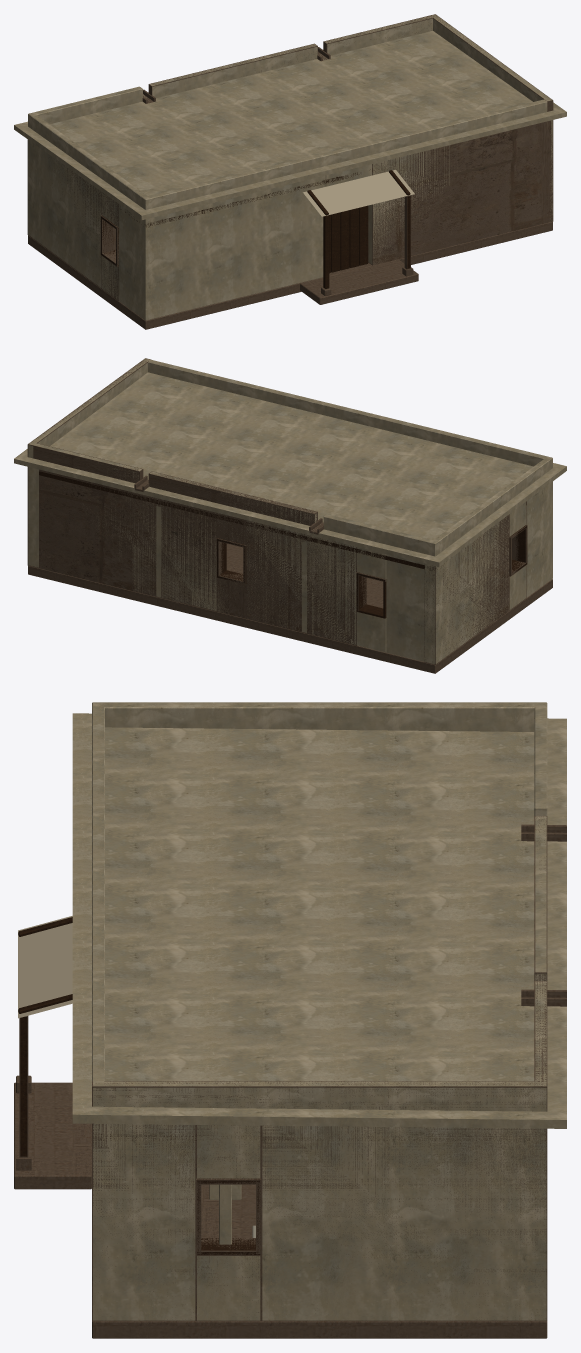
File: d_order_cells.glb
3 renders of one model, top to bottom at view 1: azimuth 30°, elevation 25°; view 2: azimuth 150°, elevation 25°; view 3: azimuth 270°, elevation 25°, orthographic. The views are drawn at different scales.
Parts seen in each view (by area): view 1: front wall, front wall-colonly.001, foundation, entry shade, window jamb, side wall-colonly.002, side wall-colonly.001, rear parapet-colonly.001, Door plank.001, Door plank.004, Door plank.002, Door plank.003 (+3 smaller); view 2: front wall, rear wall-colonly.002, rear wall-colonly.001, foundation, side wall-colonly.001, window jamb, rear parapet-colonly.001, rear parapet-colonly.002, window sill wall-colonly.001, window head wall-colonly.001, side parapet-colonly.001; view 3: front wall, foundation, side wall-colonly.003, entry shade, window jamb, side parapet-colonly.001, side wall-colonly.002, rear parapet-colonly.002, rear parapet-colonly.001.
Part boxes in pixels (bbox=[...]): front wall: bbox=[14, 14, 566, 320]; front wall-colonly.001: bbox=[368, 120, 553, 265]; foundation: bbox=[28, 47, 552, 329]; entry shade: bbox=[303, 169, 414, 216]; window jamb: bbox=[101, 157, 420, 288]; side wall-colonly.002: bbox=[541, 120, 553, 223]; side wall-colonly.001: bbox=[27, 139, 101, 288]; rear parapet-colonly.001: bbox=[148, 43, 317, 95]; Door plank.001: bbox=[331, 212, 340, 272]; Door plank.004: bbox=[359, 205, 368, 265]; Door plank.002: bbox=[340, 210, 349, 270]; Door plank.003: bbox=[349, 208, 358, 267]; front wall: bbox=[14, 358, 566, 664]; rear wall-colonly.002: bbox=[33, 469, 216, 611]; rear wall-colonly.001: bbox=[246, 520, 356, 645]; foundation: bbox=[28, 475, 552, 673]; side wall-colonly.001: bbox=[424, 514, 509, 664]; window jamb: bbox=[39, 471, 527, 618]; rear parapet-colonly.001: bbox=[148, 471, 317, 525]; rear parapet-colonly.002: bbox=[27, 443, 143, 483]; window sill wall-colonly.001: bbox=[217, 578, 246, 618]; window head wall-colonly.001: bbox=[217, 513, 246, 544]; side parapet-colonly.001: bbox=[28, 358, 150, 445]; front wall: bbox=[72, 702, 566, 1320]; foundation: bbox=[14, 824, 566, 1338]; side wall-colonly.003: bbox=[261, 1125, 547, 1321]; entry shade: bbox=[18, 916, 72, 1018]; window jamb: bbox=[18, 917, 545, 1254]; side parapet-colonly.001: bbox=[92, 1081, 547, 1111]; side wall-colonly.002: bbox=[92, 1123, 195, 1321]; rear parapet-colonly.002: bbox=[534, 981, 547, 1109]; rear parapet-colonly.001: bbox=[534, 816, 547, 980].
Size of what is drawn, in the model's own units: 14.6 by 4.28 by 8.5.
Materials: 5 (3 with a texture image).
